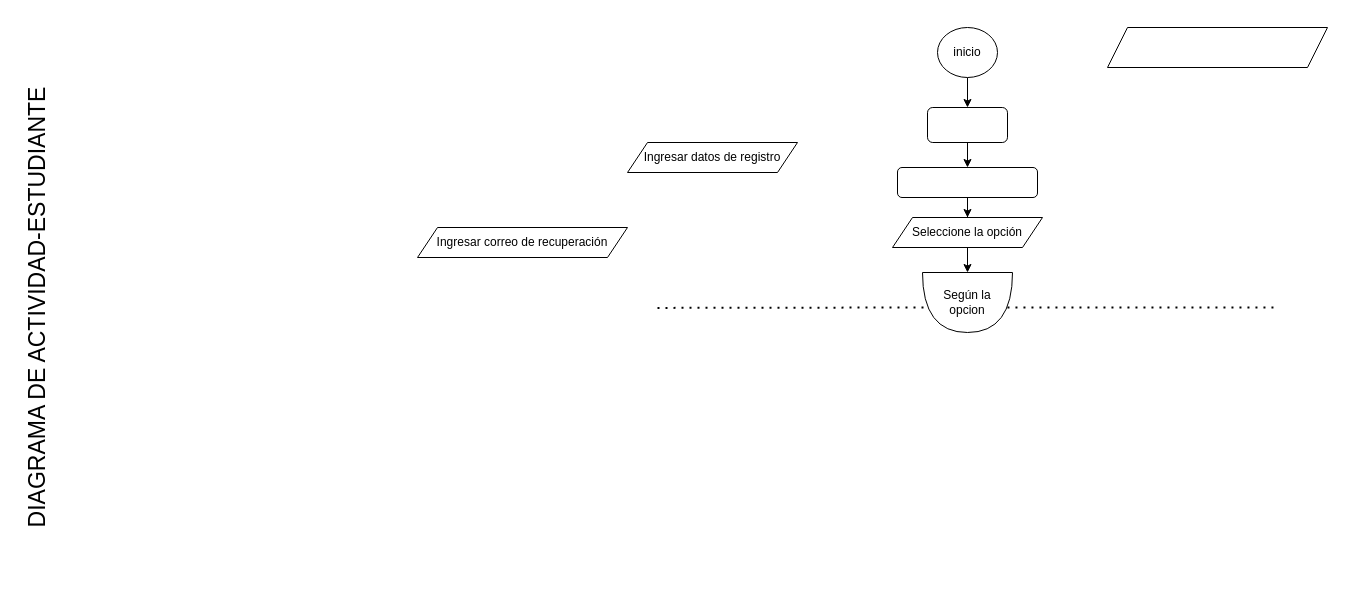
The diagram is 1345 pixels wide and 614 high, and some of its shapes have lost their labels. The shapes that lost their labels are listed below. From the top down, each one's centre as x and y in pixels, then its label:
At point 1217,47: "Ingresar datos de inicio de sesión".
At point 967,124: "Login".
At point 967,182: "Desplegar opciones disponibles".
